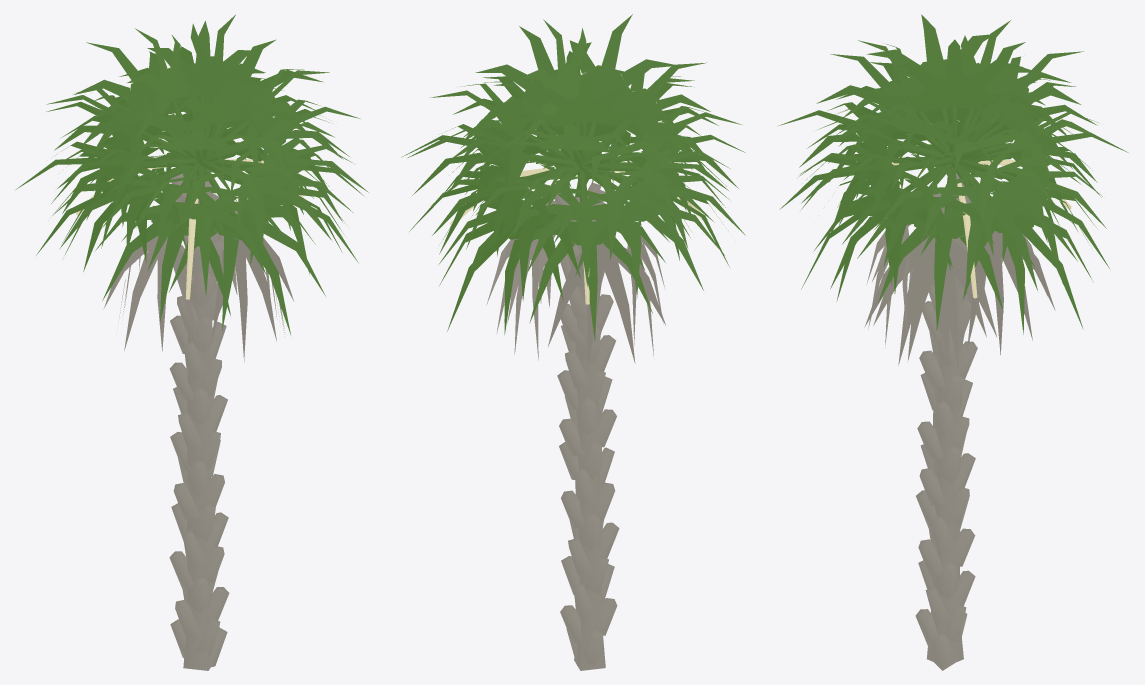
File: Blender_CabbagePalm_2_Far.glb
The picture shows the model from 3 angles, left to right: view 1: azimuth 30°, elevation 25°; view 2: azimuth 150°, elevation 25°; view 3: azimuth 270°, elevation 25°; orthographic projection.
Parts seen in each view (by area): view 1: Blender_CabbagePalm_2_Far; view 2: Blender_CabbagePalm_2_Far; view 3: Blender_CabbagePalm_2_Far.
Part boxes in pixels (x1,y1,x2,y2): Blender_CabbagePalm_2_Far: (16, 14, 368, 670); Blender_CabbagePalm_2_Far: (401, 14, 745, 670); Blender_CabbagePalm_2_Far: (777, 14, 1128, 670).
Size of the model in its own units: 6.26 by 12.17 by 6.06.
